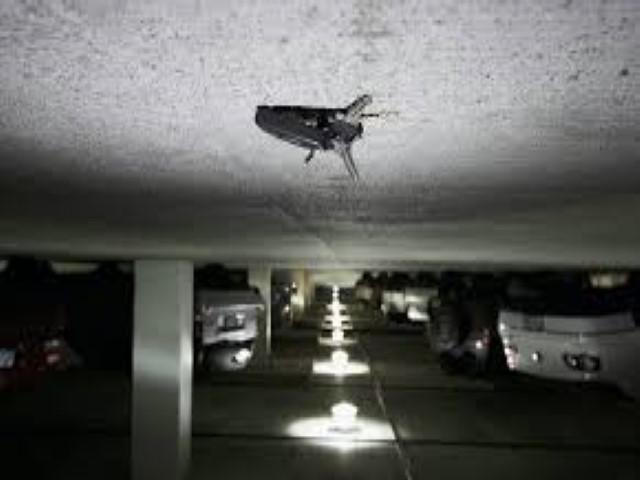key: (256, 93, 404, 404)
